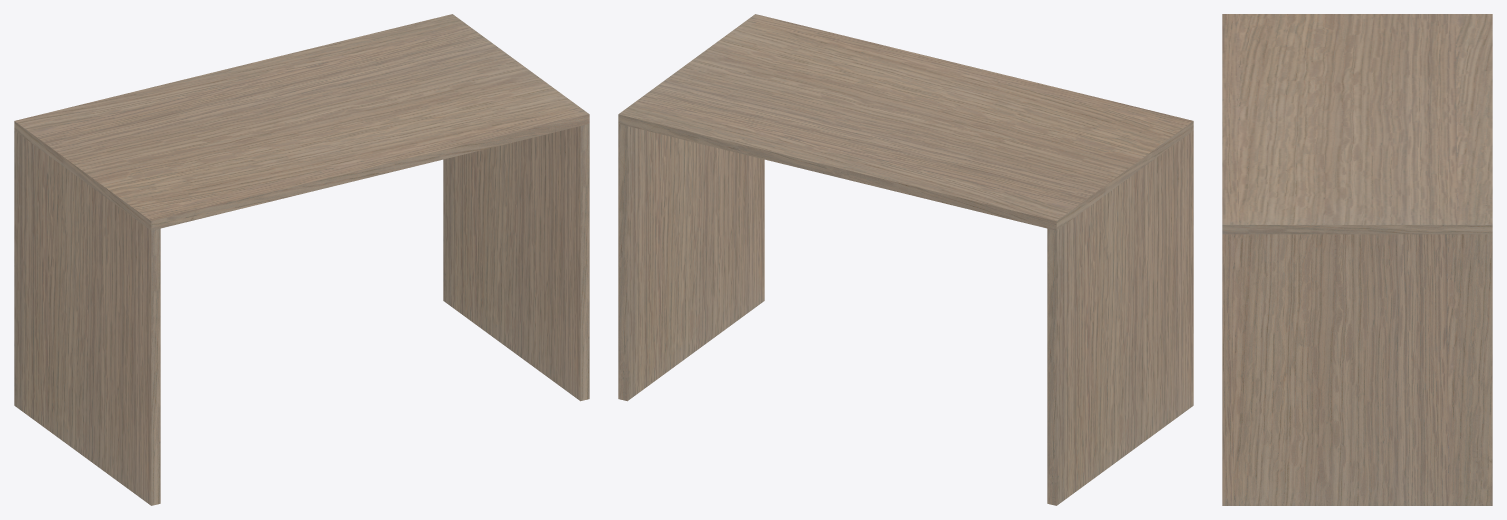
File: base.9021ced4.glb
3 renders of one model, left to right at view 1: azimuth 30°, elevation 25°; view 2: azimuth 150°, elevation 25°; view 3: azimuth 270°, elevation 25°, orthographic.
Visible parts, largest first — view 1: Cube, Cube002, Cube001; view 2: Cube, Cube002, Cube001; view 3: Cube001, Cube.
Part boxes in pixels (x1,y1,x2,y2): Cube: (14, 14, 589, 230); Cube002: (14, 131, 160, 505); Cube001: (443, 124, 589, 401); Cube: (618, 14, 1193, 230); Cube002: (1047, 131, 1193, 505); Cube001: (618, 124, 764, 401); Cube001: (1222, 234, 1492, 505); Cube: (1222, 14, 1492, 234).
Size of the model in its own units: 4.8 by 2.98 by 2.6.
Materials: 3 (3 with a texture image).
